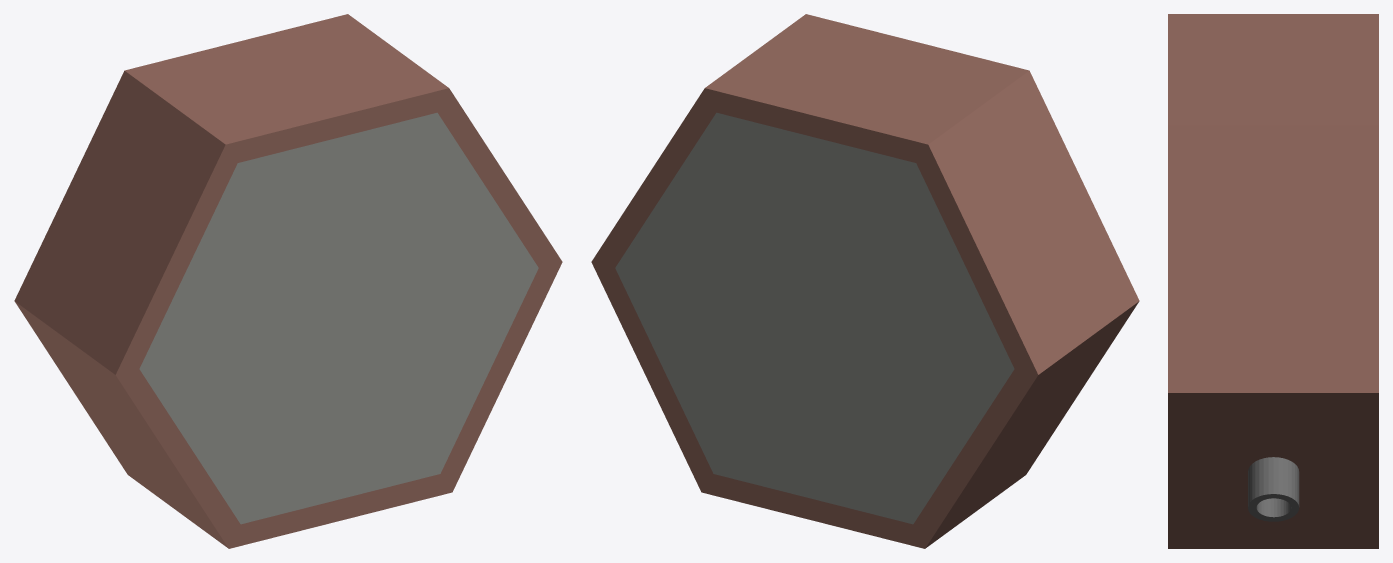
The model's file is hontai1.fbx.
3 views of the same model, side by side, from view 1: azimuth 30°, elevation 25°; view 2: azimuth 150°, elevation 25°; view 3: azimuth 270°, elevation 25° (orthographic). The views are drawn at different scales.
Visible parts, largest first — view 1: Circle.001; view 2: Circle.001; view 3: Circle.001.
Part boxes in pixels (<box>): Circle.001: <box>14,14,562,548</box>; Circle.001: <box>591,14,1139,548</box>; Circle.001: <box>1168,14,1378,548</box>.
Bounding box in the file's own units: 200 × 174 × 78.45.
